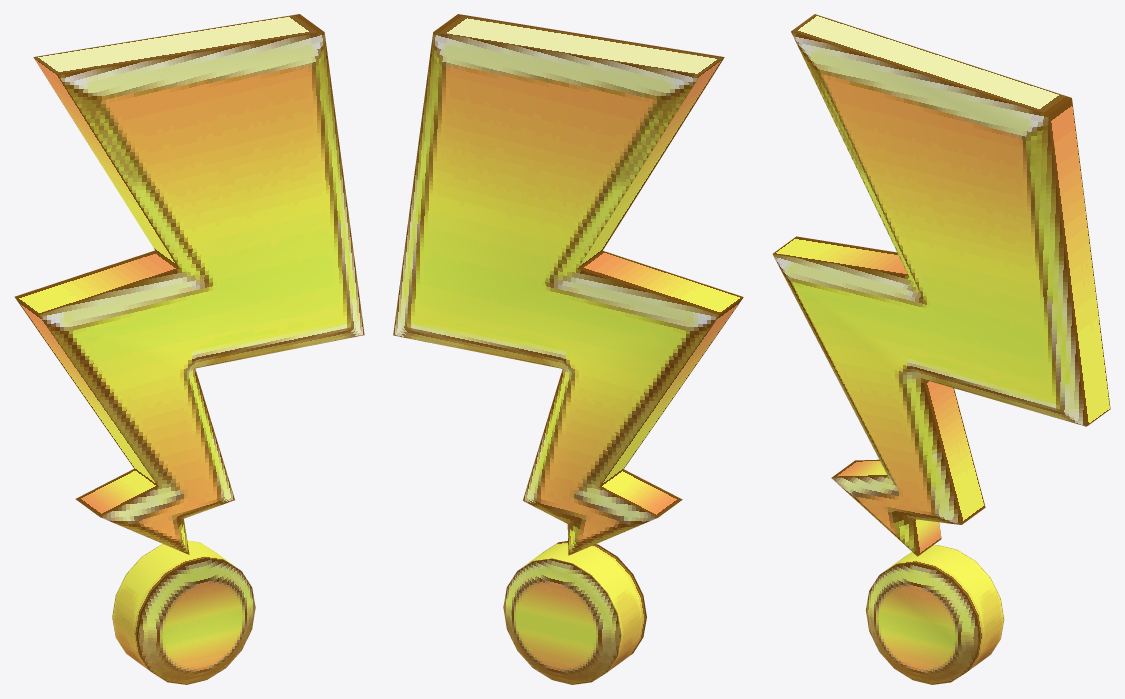
Rendered from ps2_save-icons_thebiblegame.glb.
The picture shows the model from 3 angles, left to right: view 1: azimuth 30°, elevation 25°; view 2: azimuth 150°, elevation 25°; view 3: azimuth 330°, elevation 25°; orthographic projection. The views are drawn at different scales.
Parts seen in each view (by area): view 1: TheBibleGame.ico; view 2: TheBibleGame.ico; view 3: TheBibleGame.ico.
Part boxes in pixels (box(x1,y1,x2,y2)): TheBibleGame.ico: box(14, 14, 364, 684); TheBibleGame.ico: box(393, 14, 743, 684); TheBibleGame.ico: box(772, 14, 1110, 684).
Size of the model in its own units: 1.89 by 3.56 by 0.3848.
Materials: 1 (1 with a texture image).
